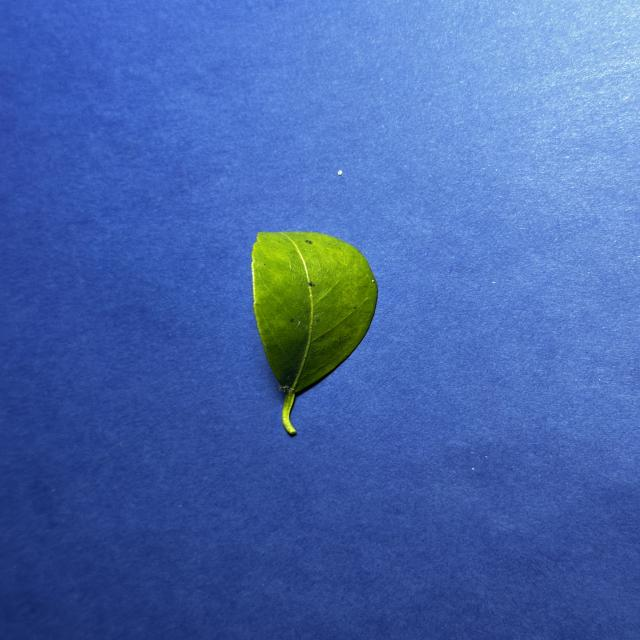greening: (252, 232, 377, 432)
